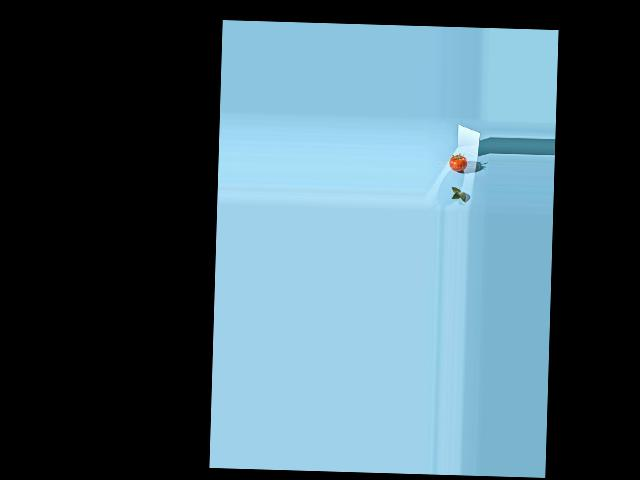tomato: (448, 154, 467, 171)
